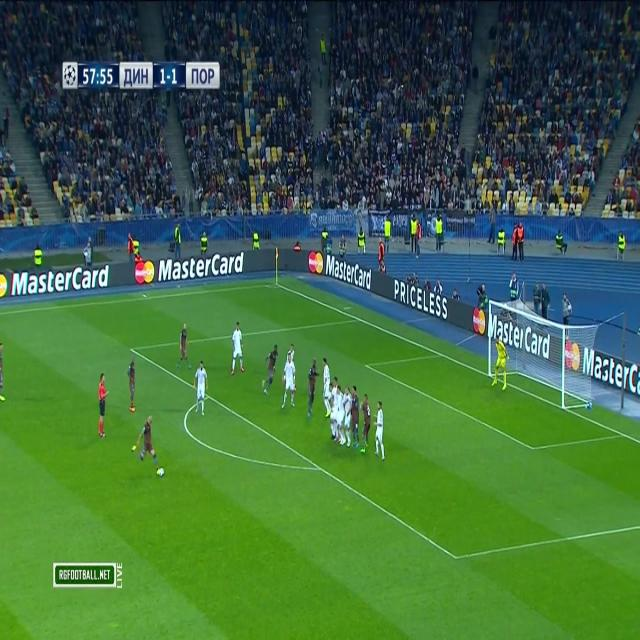Ball: (156, 460, 167, 480)
Goalkeeper: (490, 333, 510, 394)
Player: (132, 416, 159, 471), (304, 356, 321, 424), (280, 351, 298, 413), (261, 341, 279, 401), (192, 358, 209, 421), (228, 318, 246, 376), (175, 320, 193, 373), (360, 391, 372, 458), (374, 398, 386, 461), (321, 353, 332, 420), (126, 356, 138, 416), (344, 382, 353, 451), (352, 382, 360, 455), (337, 381, 346, 445), (0, 337, 6, 410)
Referee: (96, 370, 110, 444)
